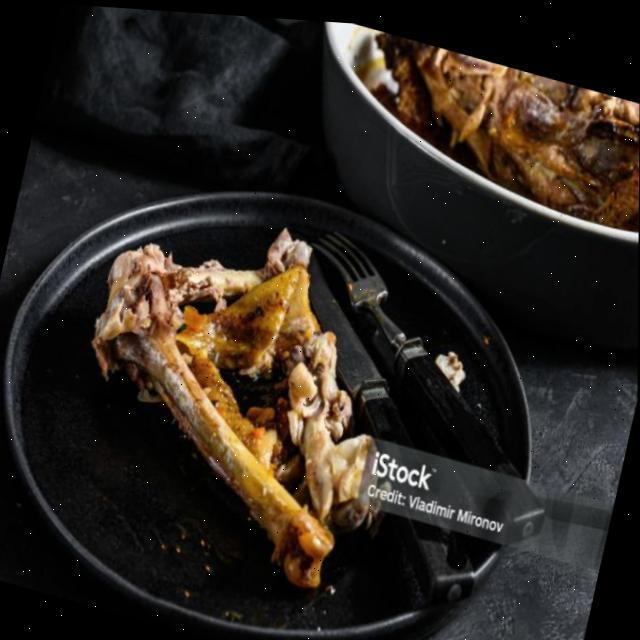Wet Waste: (74, 269, 379, 571), (117, 222, 316, 361)
